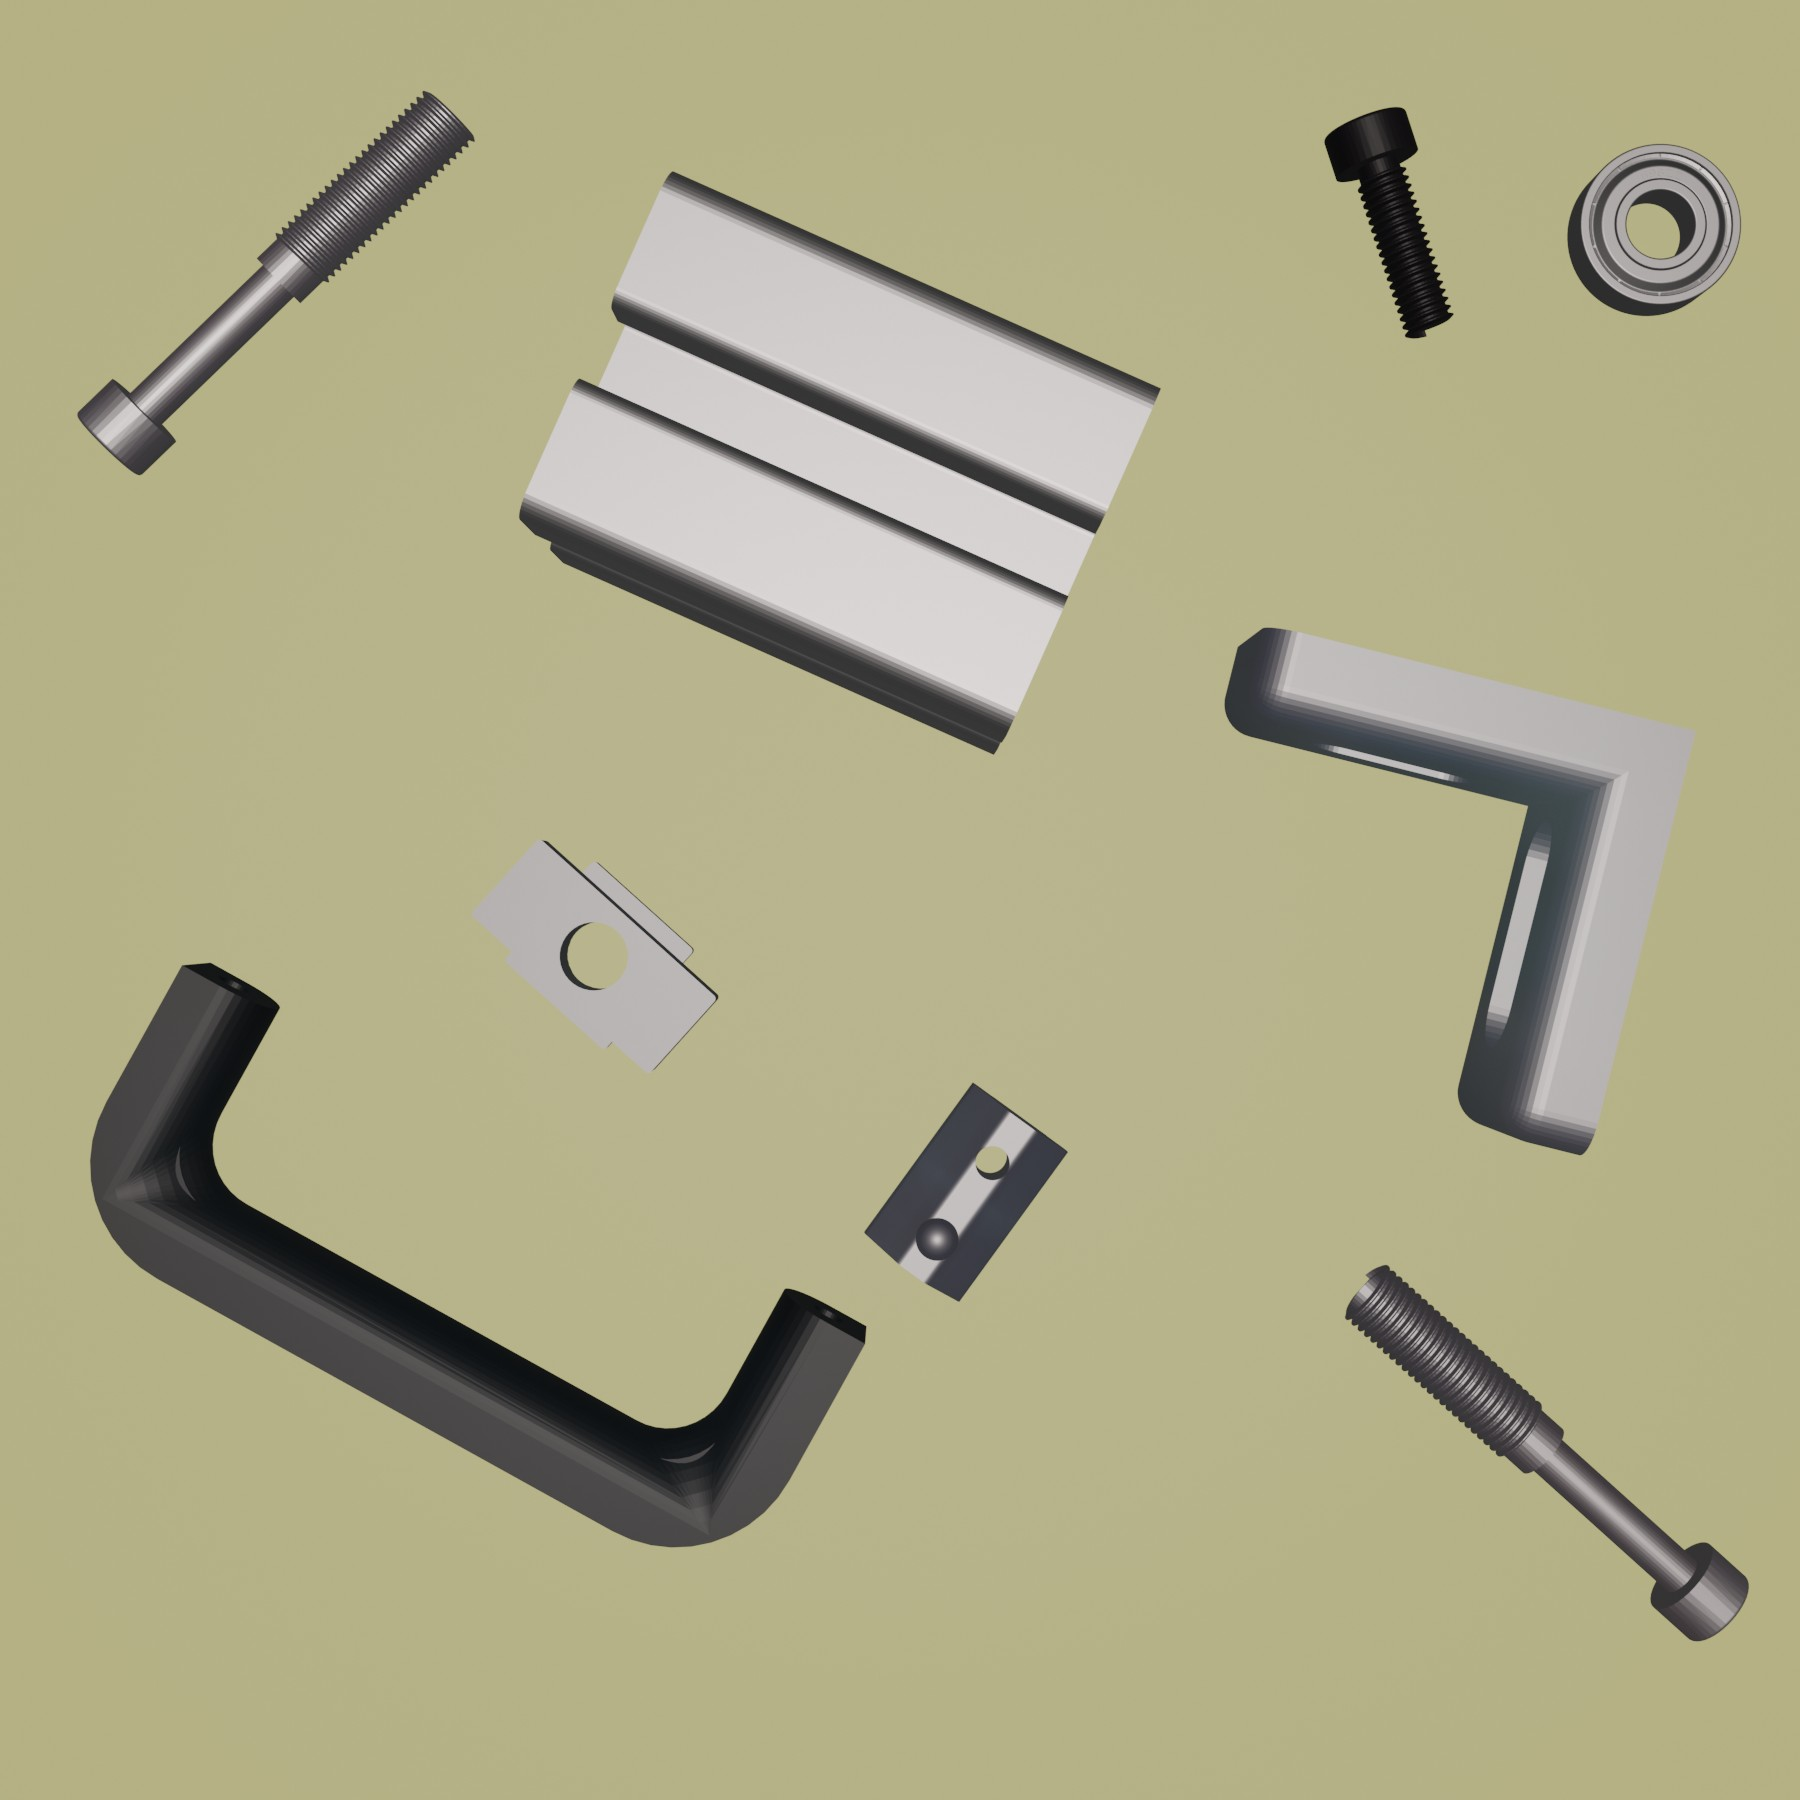Aluminium Extension: (514, 170, 1160, 758)
Ball Bearing: (1566, 142, 1742, 320)
Multiwinkel: (1220, 625, 1701, 1160)
Pull Handle: (87, 959, 869, 1549)
Shoulder Socket Head Cap Screw: (74, 87, 478, 480), (1338, 1261, 1751, 1645)
Socket Head Cap Screw: (1324, 102, 1454, 343)
T Nut Square: (466, 834, 720, 1076)
T Spring Nut: (864, 1081, 1070, 1302)
